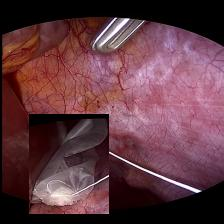Grasper: (82, 15, 146, 56)
Specimen Bag: (27, 114, 108, 214)
